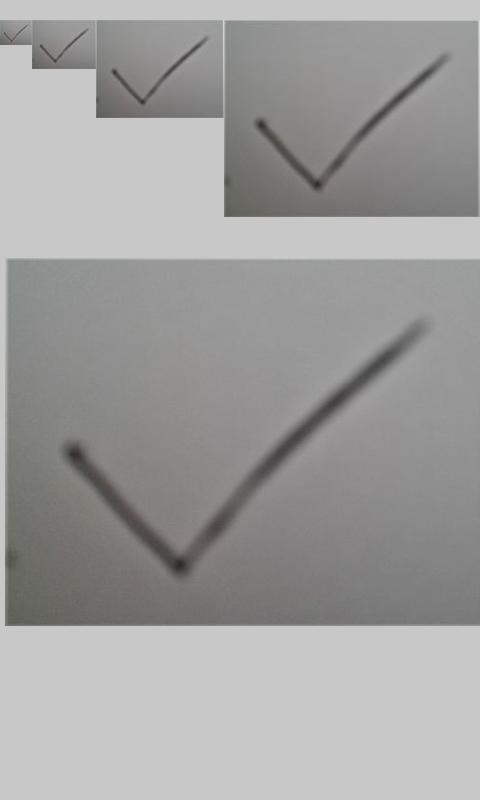check_box: (68, 322, 417, 576), (256, 55, 442, 190), (112, 37, 208, 104), (40, 29, 87, 63), (4, 26, 26, 42)
